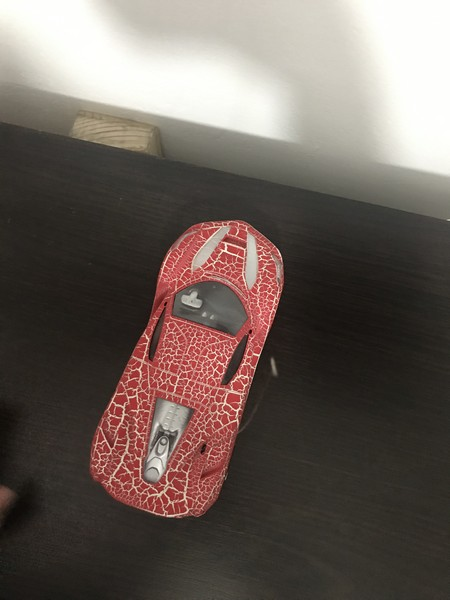RC: (87, 218, 289, 520)
